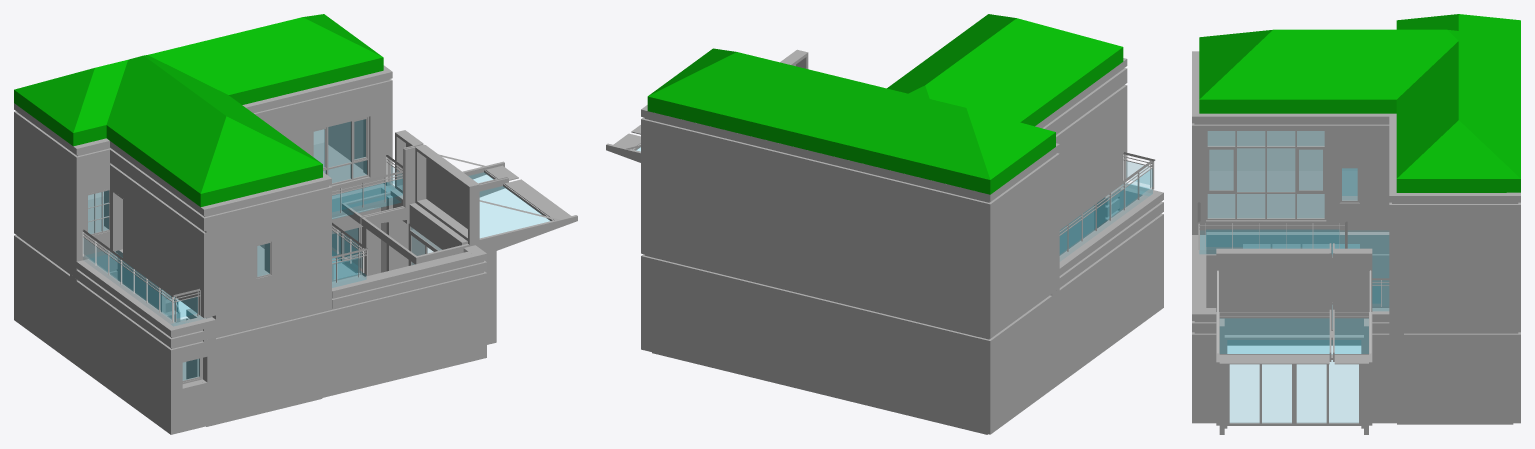
File: BIM.glb
3 views of the same model, side by side, from view 1: azimuth 30°, elevation 25°; view 2: azimuth 150°, elevation 25°; view 3: azimuth 270°, elevation 25° (orthographic). The views are drawn at different scales.
Parts seen in each view (by area): view 1: 外部 - 带粉刷砖与砌块复合墙 (×11), 常规 - 400mm, 3200 x 3000mm, 2100 x 2100mm, 常规 - 150mm 玻璃 (×2), 常规 - 150mm, 900 x 1500mm, 常规 - 140mm 砌体, 2100 x 1800mm, 700 x 2100mm, 600 x 1200mm; view 2: 外部 - 带粉刷砖与砌块复合墙 (×8), 常规 - 400mm, 常规 - 150mm 玻璃, 3200 x 3000mm, 常规 - 150mm; view 3: 外部 - 带粉刷砖与砌块复合墙 (×9), 常规 - 400mm, 3200 x 3000mm, 3600 x 3000mm (×2), 常规 - 150mm (×2), 常规 - 150mm 玻璃, 玻璃嵌板 - 底部填充 (×5), 600 x 1200mm, 顶部扶栏(内部), 栏杆扶手, 1500 x 2100mm.
Boxes of the visible parts, x1,y1,x2,y2 form: 外部 - 带粉刷砖与砌块复合墙 (×11): [14, 65, 486, 434]; 常规 - 400mm: [14, 14, 383, 206]; 3200 x 3000mm: [341, 130, 577, 344]; 2100 x 2100mm: [312, 116, 369, 185]; 常规 - 150mm 玻璃 (×2): [90, 183, 400, 325]; 常规 - 150mm: [88, 142, 382, 318]; 900 x 1500mm: [86, 188, 109, 237]; 常规 - 140mm 砌体: [117, 254, 165, 314]; 2100 x 1800mm: [332, 227, 361, 281]; 700 x 2100mm: [112, 190, 123, 258]; 600 x 1200mm: [255, 241, 272, 279]; 外部 - 带粉刷砖与砌块复合墙 (×8): [641, 58, 1163, 434]; 常规 - 400mm: [647, 14, 1123, 194]; 常规 - 150mm 玻璃: [1060, 183, 1152, 254]; 3200 x 3000mm: [606, 49, 808, 162]; 常规 - 150mm: [652, 352, 987, 434]; 外部 - 带粉刷砖与砌块复合墙 (×9): [1192, 51, 1520, 423]; 常规 - 400mm: [1199, 14, 1520, 192]; 3200 x 3000mm: [1216, 243, 1372, 434]; 3600 x 3000mm (×2): [1206, 130, 1361, 330]; 常规 - 150mm (×2): [1206, 171, 1513, 424]; 常规 - 150mm 玻璃: [1200, 235, 1388, 310]; 玻璃嵌板 - 底部填充 (×5): [1206, 230, 1338, 246]; 600 x 1200mm: [1339, 166, 1359, 202]; 顶部扶栏(内部): [1197, 202, 1389, 280]; 栏杆扶手: [1199, 225, 1389, 285]; 1500 x 2100mm: [1342, 169, 1356, 195].
Bounding box in the file's own units: 15.13 × 9.39 × 9.83.
